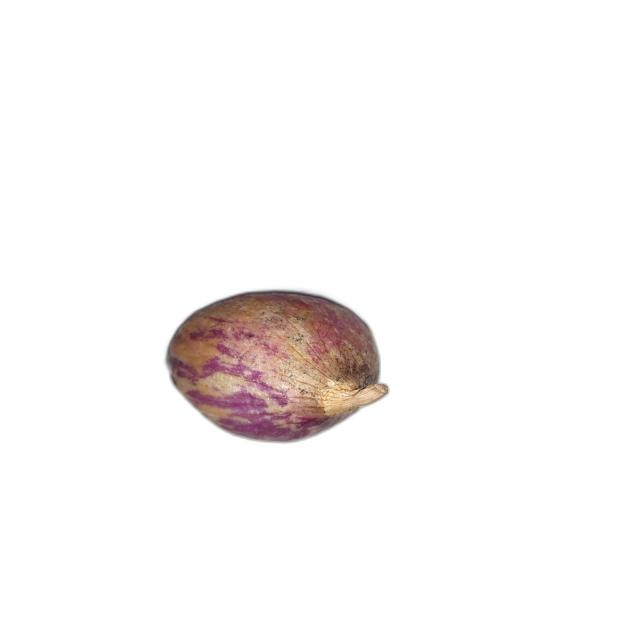onion: (166, 291, 390, 442)
